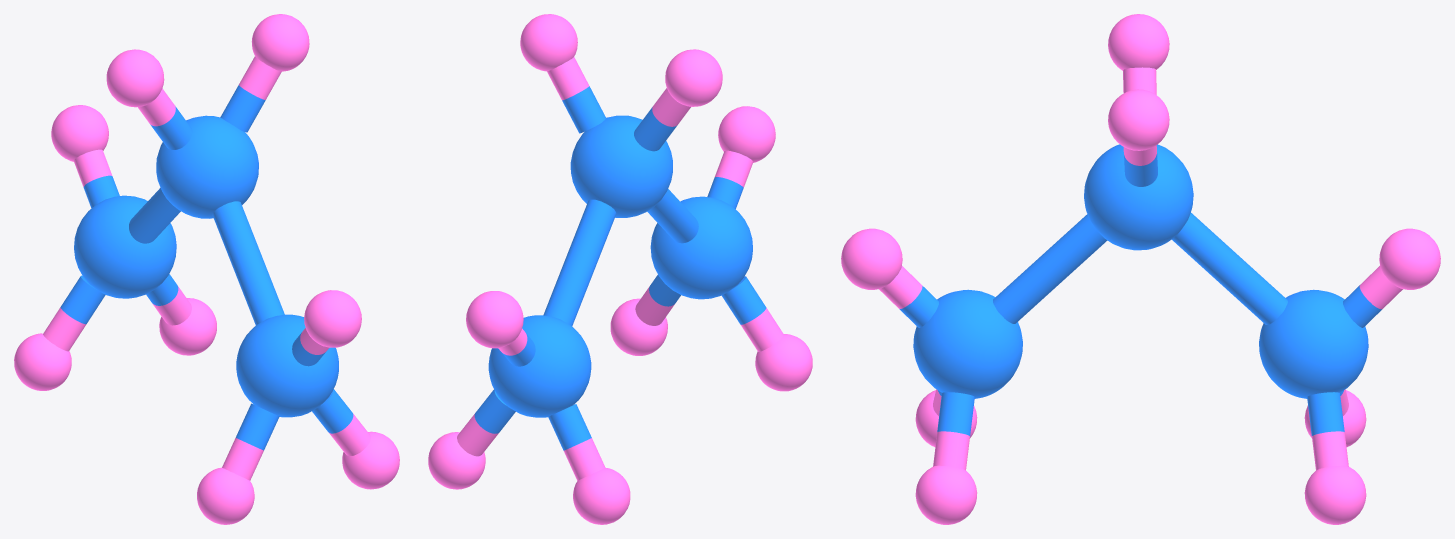
File: alcanos.gltf
3 views of the same model, side by side, from view 1: azimuth 30°, elevation 25°; view 2: azimuth 150°, elevation 25°; view 3: azimuth 270°, elevation 25° (orthographic). The views are drawn at different scales.
Visible parts, largest first — view 1: Sphere.062, Sphere.057, Sphere.055, Cylinder.093, Sphere.060, Sphere.063, Sphere.061, Sphere.056, Sphere.058, Sphere.059, Sphere.053, Sphere.054 (+16 smaller); view 2: Sphere.062, Sphere.055, Sphere.057, Cylinder.109, Sphere.059, Sphere.063, Sphere.061, Sphere.058, Sphere.056, Sphere.060, Sphere.054, Sphere.053 (+16 smaller); view 3: Sphere.057, Sphere.055, Sphere.062, Cylinder.109, Cylinder.093, Sphere.061, Sphere.059, Sphere.060, Sphere.053, Sphere.054, Sphere.063, Cylinder.094 (+11 smaller).
Boxes of the visible parts, x1,y1,x2,y2 form: Sphere.062: (156, 115, 258, 218); Sphere.057: (74, 195, 176, 298); Sphere.055: (236, 314, 338, 417); Cylinder.093: (212, 201, 284, 325); Sphere.060: (304, 290, 361, 347); Sphere.063: (106, 49, 164, 107); Sphere.061: (251, 14, 309, 71); Sphere.056: (197, 467, 254, 524); Sphere.058: (14, 333, 71, 390); Sphere.059: (51, 105, 108, 161); Sphere.053: (342, 431, 399, 489); Sphere.054: (159, 298, 216, 355); Sphere.062: (570, 115, 672, 217); Sphere.055: (650, 196, 752, 299); Sphere.057: (488, 315, 591, 417); Cylinder.109: (543, 199, 616, 325); Sphere.059: (466, 291, 523, 348); Sphere.063: (665, 49, 722, 106); Sphere.061: (520, 14, 577, 71); Sphere.058: (573, 467, 630, 524); Sphere.056: (755, 334, 812, 391); Sphere.060: (718, 106, 775, 162); Sphere.054: (428, 432, 485, 489); Sphere.053: (610, 298, 667, 355); Sphere.057: (1259, 289, 1368, 398); Sphere.055: (913, 289, 1022, 398); Sphere.062: (1084, 144, 1193, 250); Cylinder.109: (1172, 212, 1287, 324); Cylinder.093: (993, 214, 1107, 323); Sphere.061: (1108, 89, 1169, 150); Sphere.059: (1379, 228, 1440, 289); Sphere.060: (841, 228, 902, 289); Sphere.053: (915, 465, 977, 524); Sphere.054: (1304, 465, 1366, 524); Sphere.063: (1108, 14, 1169, 70); Cylinder.094: (937, 392, 974, 435).
Size of the model in its own units: 0.000513 by 0.00101 by 0.00128.
